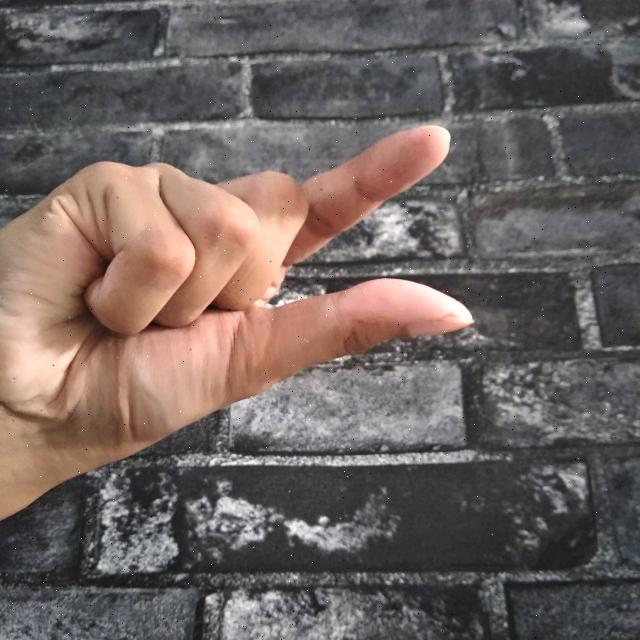G: (0, 124, 477, 522)
